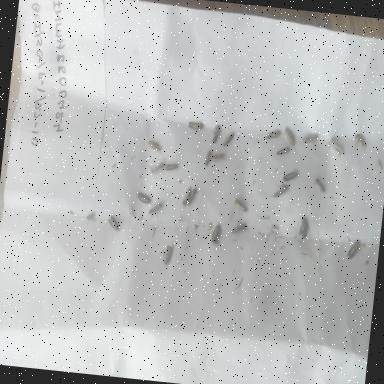pbw: (184, 113, 208, 134), (328, 136, 346, 162), (159, 242, 176, 268), (145, 199, 164, 222), (262, 127, 282, 146), (230, 195, 249, 215), (271, 182, 290, 202), (105, 213, 121, 236), (346, 238, 362, 261), (297, 215, 311, 241), (281, 166, 301, 184), (311, 176, 329, 196), (282, 126, 298, 148), (209, 222, 223, 247), (230, 218, 248, 237), (186, 184, 200, 208), (352, 131, 368, 152), (180, 185, 193, 210), (298, 132, 320, 146), (147, 160, 168, 174), (220, 130, 236, 148), (134, 192, 154, 206), (273, 144, 293, 158), (210, 151, 226, 167), (208, 123, 220, 144), (164, 159, 178, 175), (203, 147, 213, 168), (150, 142, 164, 156)
